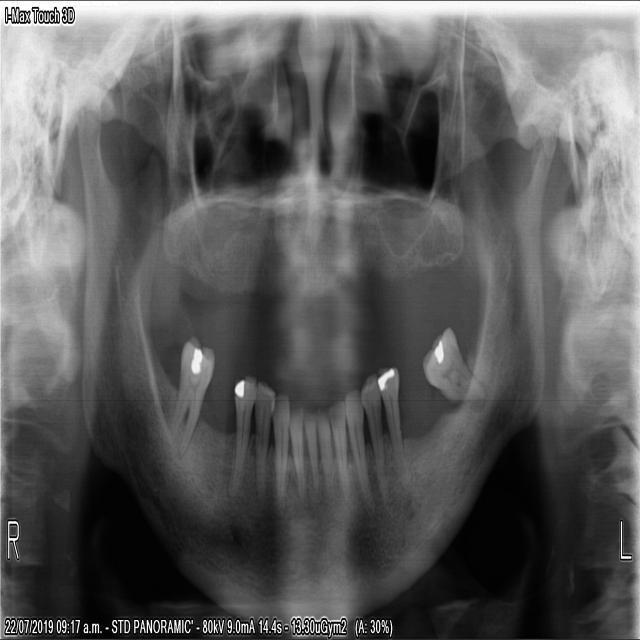LCD: (342, 385, 374, 510)
LID: (325, 397, 353, 497), (314, 401, 336, 499)
LMD: (418, 319, 485, 410)
LPMD: (373, 361, 409, 484), (358, 371, 390, 507)
RCD: (270, 393, 290, 510)
RID: (282, 400, 307, 500), (301, 401, 321, 490)
RMD: (160, 334, 217, 459)
RPMD: (226, 366, 257, 499), (251, 378, 276, 504)
